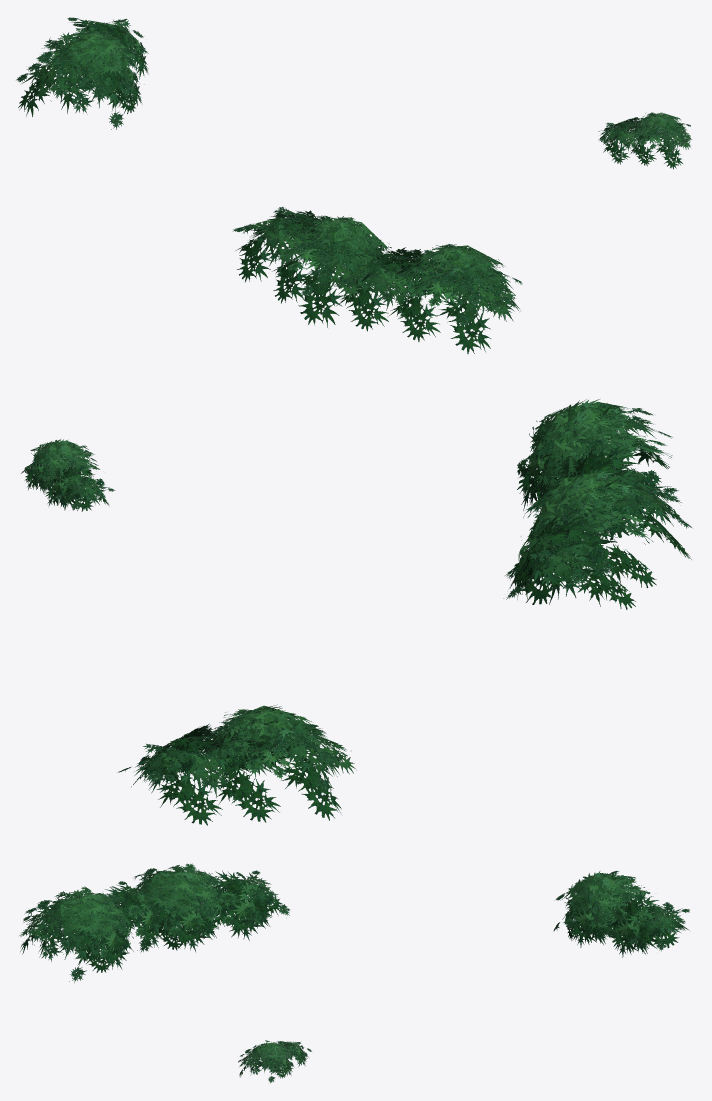
Rendered from Area_04_2.fbx.
3 views of the same model, one above another, from view 1: azimuth 30°, elevation 25°; view 2: azimuth 150°, elevation 25°; view 3: azimuth 270°, elevation 25° (orthographic). The views are drawn at different scales.
Parts seen in each view (by area): view 1: Area_04_2; view 2: Area_04_2; view 3: Area_04_2.
Boxes of the visible parts, x1,y1,x2,y2 form: Area_04_2: (16,17,692,353); Area_04_2: (21,399,691,825); Area_04_2: (19,863,689,1083).
Size of the model in its own units: 2420 by 452 by 3626.
